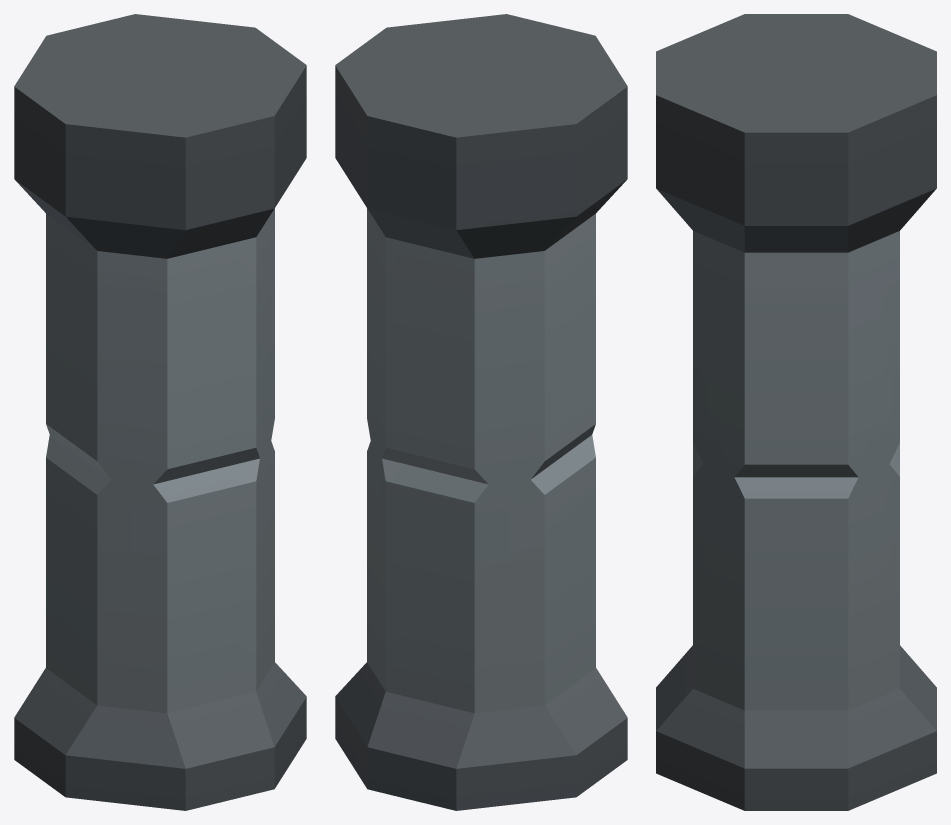
Rendered from pillar.gltf.glb.
The picture shows the model from 3 angles, left to right: view 1: azimuth 30°, elevation 25°; view 2: azimuth 150°, elevation 25°; view 3: azimuth 270°, elevation 25°; orthographic projection.
Parts seen in each view (by area): view 1: pillar; view 2: pillar; view 3: pillar.
Boxes of the visible parts, <box> form: pillar: <box>14,14,306,810</box>; pillar: <box>335,14,627,810</box>; pillar: <box>656,14,936,810</box>.
Size of the model in its own units: 1.5 by 4 by 1.5.
Materials: 1 (1 with a texture image).
